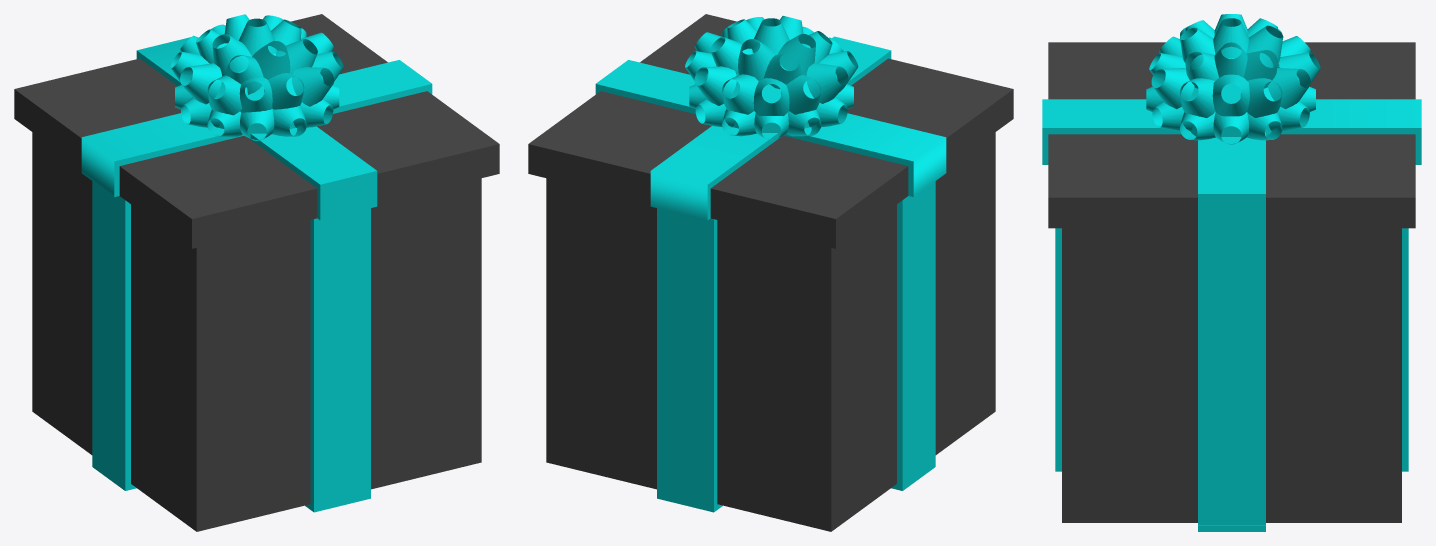
File: boxAnim.fbx
3 renders of one model, left to right at view 1: azimuth 30°, elevation 25°; view 2: azimuth 150°, elevation 25°; view 3: azimuth 270°, elevation 25°, orthographic. The views are drawn at different scales.
Visible parts, largest first — view 1: GiftGameScene_0008:GiftBox:Box_Bottom, GiftGameScene_0008:GiftBox:Box_Top, GiftGameScene_0008:GiftBox:Ribbon_Lower, GiftGameScene_0008:GiftBox:Ribbon_Upper, GiftGameScene_0008:pCylinder26, GiftGameScene_0008:pCylinder14, GiftGameScene_0008:pCylinder42, GiftGameScene_0008:pCylinder22, GiftGameScene_0008:pCylinder51, GiftGameScene_0008:pCylinder20, GiftGameScene_0008:pCylinder21, GiftGameScene_0008:pCylinder53 (+8 smaller); view 2: GiftGameScene_0008:GiftBox:Box_Bottom, GiftGameScene_0008:GiftBox:Box_Top, GiftGameScene_0008:GiftBox:Ribbon_Lower, GiftGameScene_0008:GiftBox:Ribbon_Upper, GiftGameScene_0008:pCylinder26, GiftGameScene_0008:pCylinder18, GiftGameScene_0008:pCylinder24, GiftGameScene_0008:pCylinder42, GiftGameScene_0008:pCylinder52, GiftGameScene_0008:pCylinder19, GiftGameScene_0008:pCylinder25, GiftGameScene_0008:pCylinder53 (+8 smaller); view 3: GiftGameScene_0008:GiftBox:Box_Bottom, GiftGameScene_0008:GiftBox:Box_Top, GiftGameScene_0008:GiftBox:Ribbon_Lower, GiftGameScene_0008:GiftBox:Ribbon_Upper, GiftGameScene_0008:pCylinder27, GiftGameScene_0008:pCylinder14, GiftGameScene_0008:pCylinder18, GiftGameScene_0008:pCylinder53, GiftGameScene_0008:pCylinder15, GiftGameScene_0008:pCylinder17, GiftGameScene_0008:pCylinder52, GiftGameScene_0008:pCylinder51 (+10 smaller).
Part boxes in pixels (x1=…): GiftGameScene_0008:GiftBox:Box_Bottom: x1=32, y1=132, x2=481, y2=531; GiftGameScene_0008:GiftBox:Box_Top: x1=14, y1=14, x2=499, y2=248; GiftGameScene_0008:GiftBox:Ribbon_Lower: x1=92, y1=181, x2=370, y2=512; GiftGameScene_0008:GiftBox:Ribbon_Upper: x1=81, y1=37, x2=432, y2=220; GiftGameScene_0008:pCylinder26: x1=180, y1=63, x2=221, y2=104; GiftGameScene_0008:pCylinder14: x1=292, y1=67, x2=333, y2=106; GiftGameScene_0008:pCylinder42: x1=212, y1=34, x2=251, y2=76; GiftGameScene_0008:pCylinder22: x1=207, y1=75, x2=247, y2=115; GiftGameScene_0008:pCylinder51: x1=252, y1=41, x2=290, y2=79; GiftGameScene_0008:pCylinder20: x1=264, y1=73, x2=304, y2=109; GiftGameScene_0008:pCylinder21: x1=239, y1=77, x2=272, y2=112; GiftGameScene_0008:pCylinder53: x1=239, y1=18, x2=277, y2=55; GiftGameScene_0008:GiftBox:Box_Bottom: x1=546, y1=132, x2=995, y2=531; GiftGameScene_0008:GiftBox:Box_Top: x1=528, y1=14, x2=1013, y2=248; GiftGameScene_0008:GiftBox:Ribbon_Lower: x1=657, y1=181, x2=935, y2=512; GiftGameScene_0008:GiftBox:Ribbon_Upper: x1=595, y1=36, x2=946, y2=220; GiftGameScene_0008:pCylinder26: x1=806, y1=63, x2=848, y2=103; GiftGameScene_0008:pCylinder18: x1=694, y1=66, x2=736, y2=105; GiftGameScene_0008:pCylinder24: x1=753, y1=78, x2=789, y2=116; GiftGameScene_0008:pCylinder42: x1=777, y1=33, x2=815, y2=75; GiftGameScene_0008:pCylinder52: x1=738, y1=39, x2=776, y2=80; GiftGameScene_0008:pCylinder19: x1=722, y1=74, x2=762, y2=114; GiftGameScene_0008:pCylinder25: x1=781, y1=75, x2=820, y2=114; GiftGameScene_0008:pCylinder53: x1=751, y1=18, x2=789, y2=54; GiftGameScene_0008:GiftBox:Box_Bottom: x1=1062, y1=228, x2=1401, y2=522; GiftGameScene_0008:GiftBox:Box_Top: x1=1048, y1=42, x2=1415, y2=228; GiftGameScene_0008:GiftBox:Ribbon_Lower: x1=1055, y1=228, x2=1408, y2=531; GiftGameScene_0008:GiftBox:Ribbon_Upper: x1=1042, y1=99, x2=1421, y2=230; GiftGameScene_0008:pCylinder27: x1=1212, y1=74, x2=1249, y2=116; GiftGameScene_0008:pCylinder14: x1=1151, y1=68, x2=1194, y2=109; GiftGameScene_0008:pCylinder18: x1=1268, y1=68, x2=1310, y2=109; GiftGameScene_0008:pCylinder53: x1=1213, y1=18, x2=1248, y2=58; GiftGameScene_0008:pCylinder15: x1=1180, y1=78, x2=1221, y2=117; GiftGameScene_0008:pCylinder17: x1=1240, y1=78, x2=1282, y2=117; GiftGameScene_0008:pCylinder52: x1=1246, y1=25, x2=1283, y2=67; GiftGameScene_0008:pCylinder51: x1=1180, y1=27, x2=1215, y2=69.
Size of the model in its own units: 2.79 by 3.53 by 2.79.
